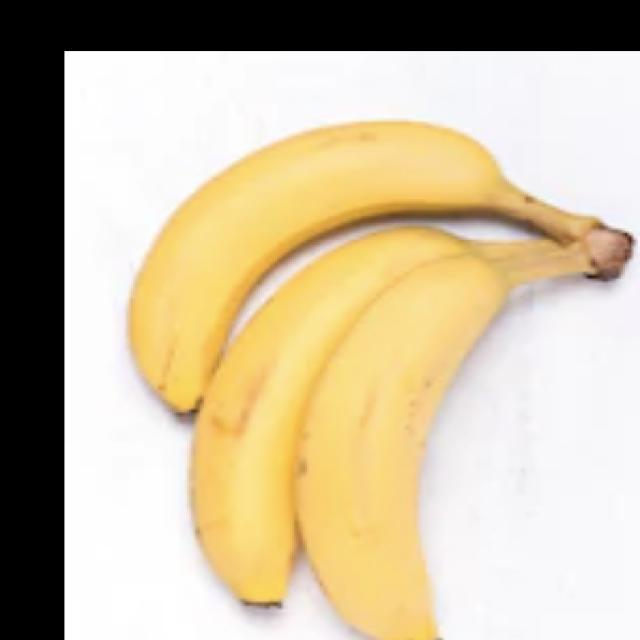Banana: (121, 113, 640, 640)
